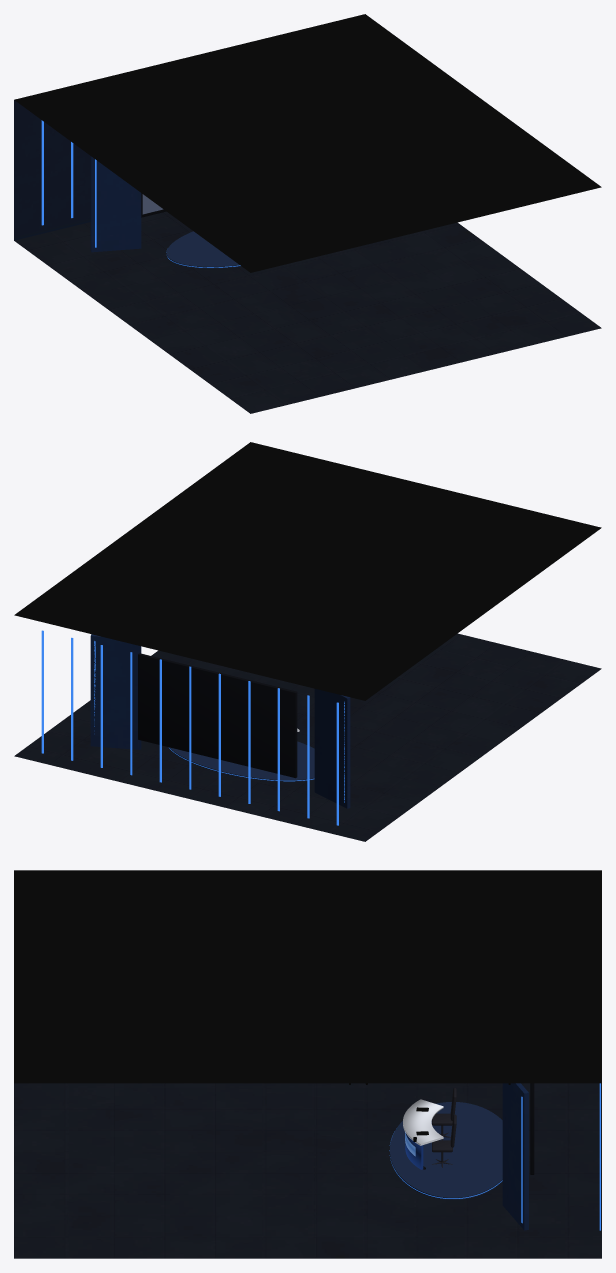
Rendered from newsroom-late-night.glb.
The picture shows the model from 3 angles, top to bottom: view 1: azimuth 30°, elevation 25°; view 2: azimuth 150°, elevation 25°; view 3: azimuth 270°, elevation 25°; orthographic projection. The views are drawn at different scales.
Parts seen in each view (by area): view 1: news_ceiling, news_floor, news_backwall, news_flats, news_riser, news_glow; view 2: news_ceiling, news_floor, news_wall_frame, news_flats, news_glow, news_riser; view 3: news_ceiling, news_floor, news_riser, news_flats, news_desk_top, news_glow.
Boxes of the visible parts, x1,y1,x2,y2 form: news_ceiling: (14, 14, 601, 272); news_floor: (14, 211, 601, 413); news_backwall: (14, 100, 90, 240); news_flats: (90, 156, 141, 252); news_riser: (166, 231, 241, 268); news_glow: (41, 120, 240, 267); news_ceiling: (14, 442, 601, 700); news_floor: (14, 633, 601, 841); news_wall_frame: (138, 653, 297, 778); news_flats: (90, 634, 350, 808); news_glow: (41, 630, 344, 825); news_riser: (168, 741, 314, 781); news_ceiling: (14, 870, 601, 1083); news_floor: (14, 1083, 601, 1258); news_riser: (390, 1102, 502, 1199); news_flats: (502, 1083, 528, 1230); news_desk_top: (403, 1099, 443, 1145); news_glow: (389, 1083, 600, 1230).
Bounding box in the file's own units: 12 × 4.6 × 14.
Materials: 15 (6 with a texture image).
